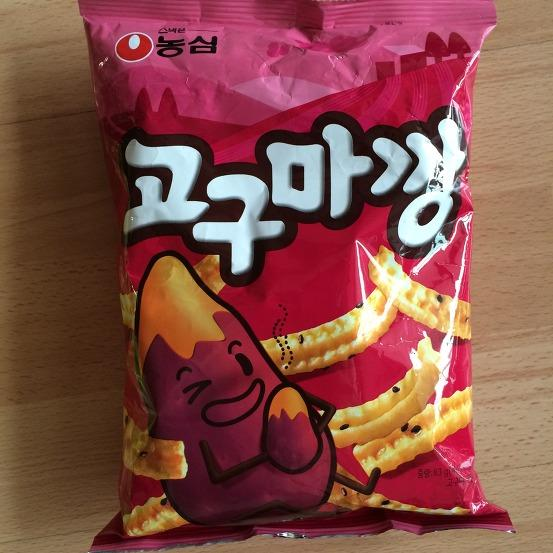snack: (77, 0, 518, 553)
